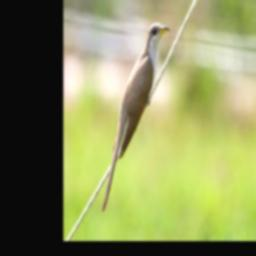Cuckoo: (100, 21, 171, 218)
